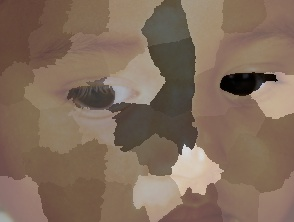vitiligo: (67, 3, 211, 222)
